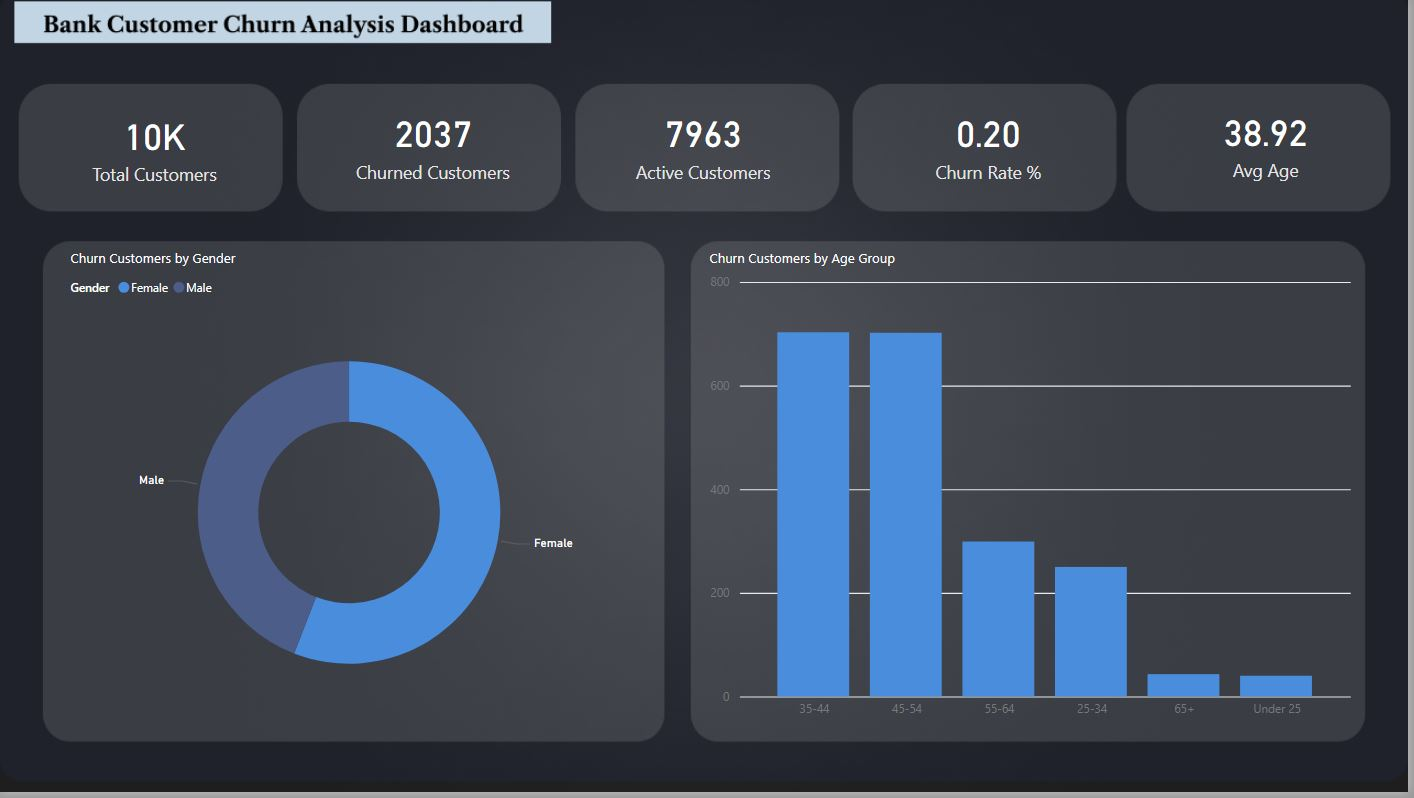

This screenshot's page, from the dashboard's own definition file:
{"tool":"powerbi","page":{"name":"Page 1","canvas":[1280,720],"ordinal":0},"visuals":[{"type":"donutChart","fields":{"Y":["Bank_Churn.Churn Customers"],"Category":["Bank_Churn.Gender"]},"box":[59.3,226.6,516.5,435.7],"z":0},{"type":"lineClusteredColumnComboChart","fields":{"Category":["Bank_Churn.Age Group"],"Y":["Bank_Churn.Churn Customers"]},"box":[640,226.6,593.3,435.7],"z":1000},{"type":"card","fields":{"Values":["Bank_Churn.Total Customers"]},"box":[36,80.7,208.1,103.1],"z":2000},{"type":"card","fields":{"Values":["Bank_Churn.Churned Customers"]},"box":[284,80.7,219.8,99.2],"z":3000},{"type":"card","fields":{"Values":["Bank_Churn.Active Customers"]},"box":[534,80.7,211.1,99.2],"z":4000},{"type":"card","fields":{"Values":["Bank_Churn.Churn Rate %"]},"box":[790.8,80.7,215,99.2],"z":5000},{"type":"card","fields":{"Values":["Bank_Churn.Avg Age"]},"box":[1045.6,76.8,210.1,103.1],"z":6000}]}

Visuals, with their boxes in screenshot pixels (x1, y1, x2, y2), scaled from the page's 1280x720 canvas onto the 1414x798 screenshot:
donutChart - Bank_Churn.Churn Customers x Bank_Churn.Gender: box(66, 251, 636, 734)
lineClusteredColumnComboChart - Bank_Churn.Age Group x Bank_Churn.Churn Customers: box(707, 251, 1362, 734)
card - Bank_Churn.Total Customers: box(40, 89, 270, 204)
card - Bank_Churn.Churned Customers: box(314, 89, 557, 199)
card - Bank_Churn.Active Customers: box(590, 89, 823, 199)
card - Bank_Churn.Churn Rate %: box(874, 89, 1111, 199)
card - Bank_Churn.Avg Age: box(1155, 85, 1387, 199)
